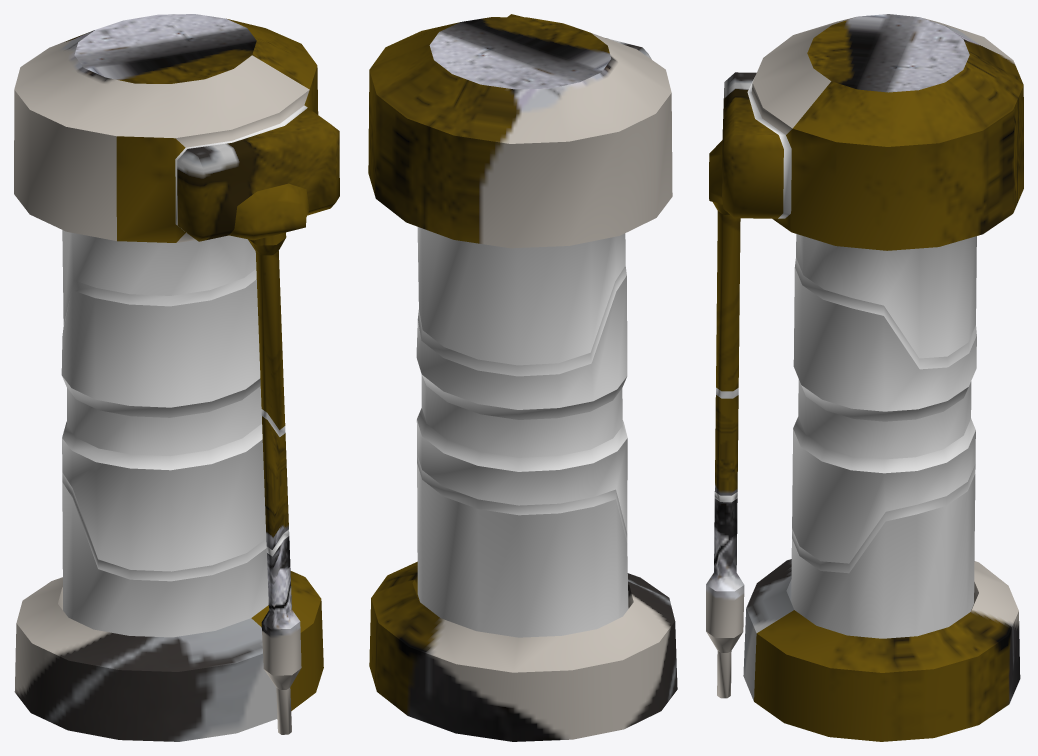
The model's file is sonic_generator.fbx.
3 views of the same model, side by side, from view 1: azimuth 30°, elevation 25°; view 2: azimuth 150°, elevation 25°; view 3: azimuth 270°, elevation 25° (orthographic).
Parts seen in each view (by area): view 1: sonic_generator; view 2: sonic_generator; view 3: sonic_generator.
Part boxes in pixels (x1,y1,x2,y2): sonic_generator: (14, 14, 339, 741); sonic_generator: (368, 14, 677, 741); sonic_generator: (706, 14, 1023, 741).
Size of the model in its own units: 49.32 by 108 by 49.67.
